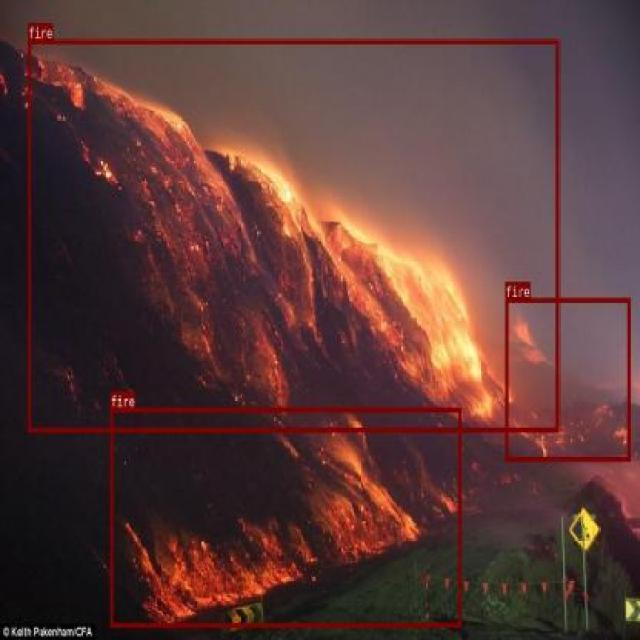Fire: (28, 39, 558, 432), (110, 406, 461, 626), (504, 296, 630, 462)
